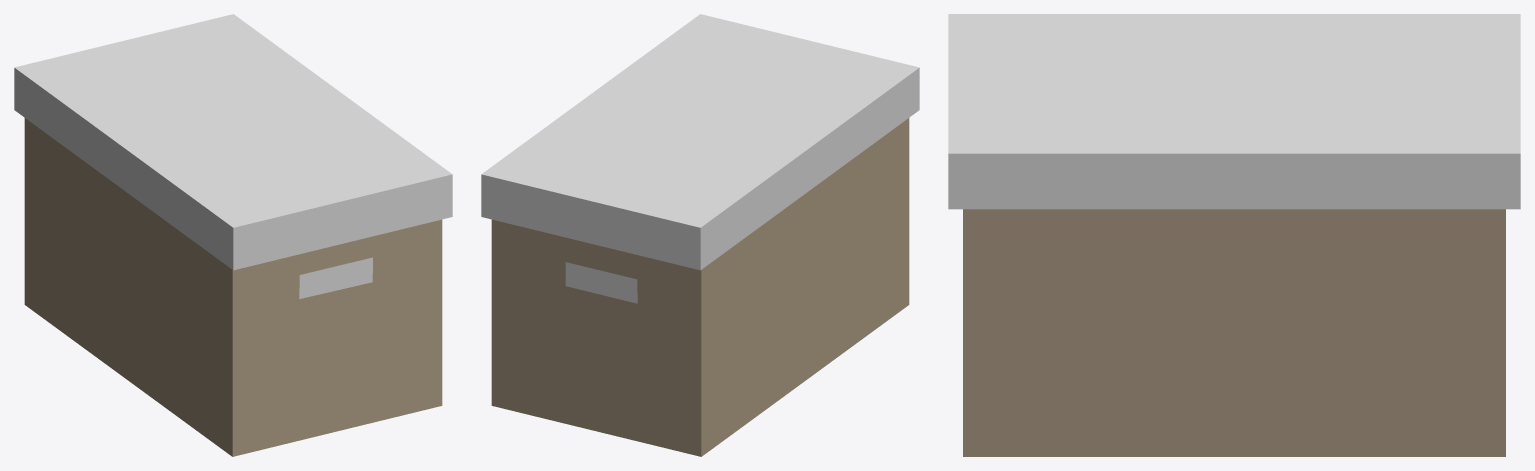
The model's file is stock4.fbx.
The picture shows the model from 3 angles, left to right: view 1: azimuth 30°, elevation 25°; view 2: azimuth 150°, elevation 25°; view 3: azimuth 270°, elevation 25°; orthographic projection. The views are drawn at different scales.
Visible parts, largest first — view 1: Cube_4; view 2: Cube_4; view 3: Cube_4.
Boxes of the visible parts, <box> form: Cube_4: <box>14,14,452,456</box>; Cube_4: <box>481,14,919,456</box>; Cube_4: <box>948,14,1520,456</box>.
Size of the model in its own units: 35.79 by 36.56 by 61.94.
